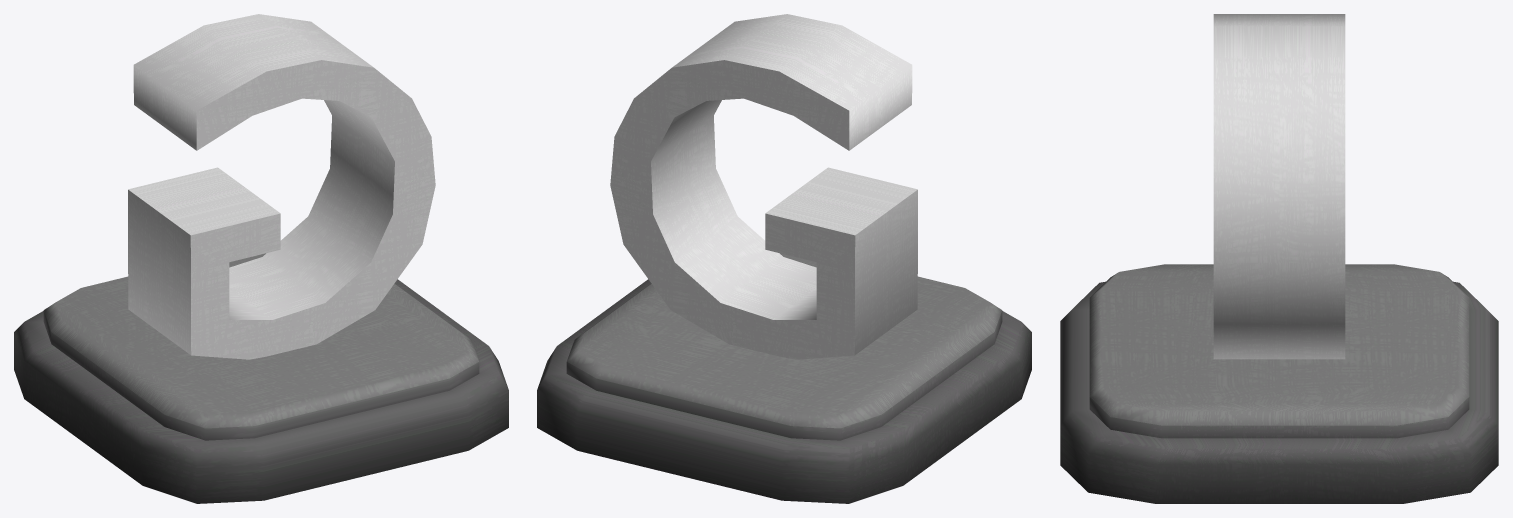
The model's file is Statue Letter G Hand.fbx.
3 views of the same model, side by side, from view 1: azimuth 30°, elevation 25°; view 2: azimuth 150°, elevation 25°; view 3: azimuth 270°, elevation 25° (orthographic). The views are drawn at different scales.
Visible parts, largest first — view 1: Letter, StatueBase (1); view 2: Letter, StatueBase (1); view 3: StatueBase (1), Letter.
Part boxes in pixels (x1,y1,x2,y2): Letter: [128, 14, 435, 359]; StatueBase (1): [14, 253, 508, 503]; Letter: [610, 14, 917, 359]; StatueBase (1): [537, 253, 1031, 503]; StatueBase (1): [1060, 264, 1498, 503]; Letter: [1213, 14, 1345, 359].
Bounding box in the file's own units: 0.9118 × 0.8732 × 0.9299.
